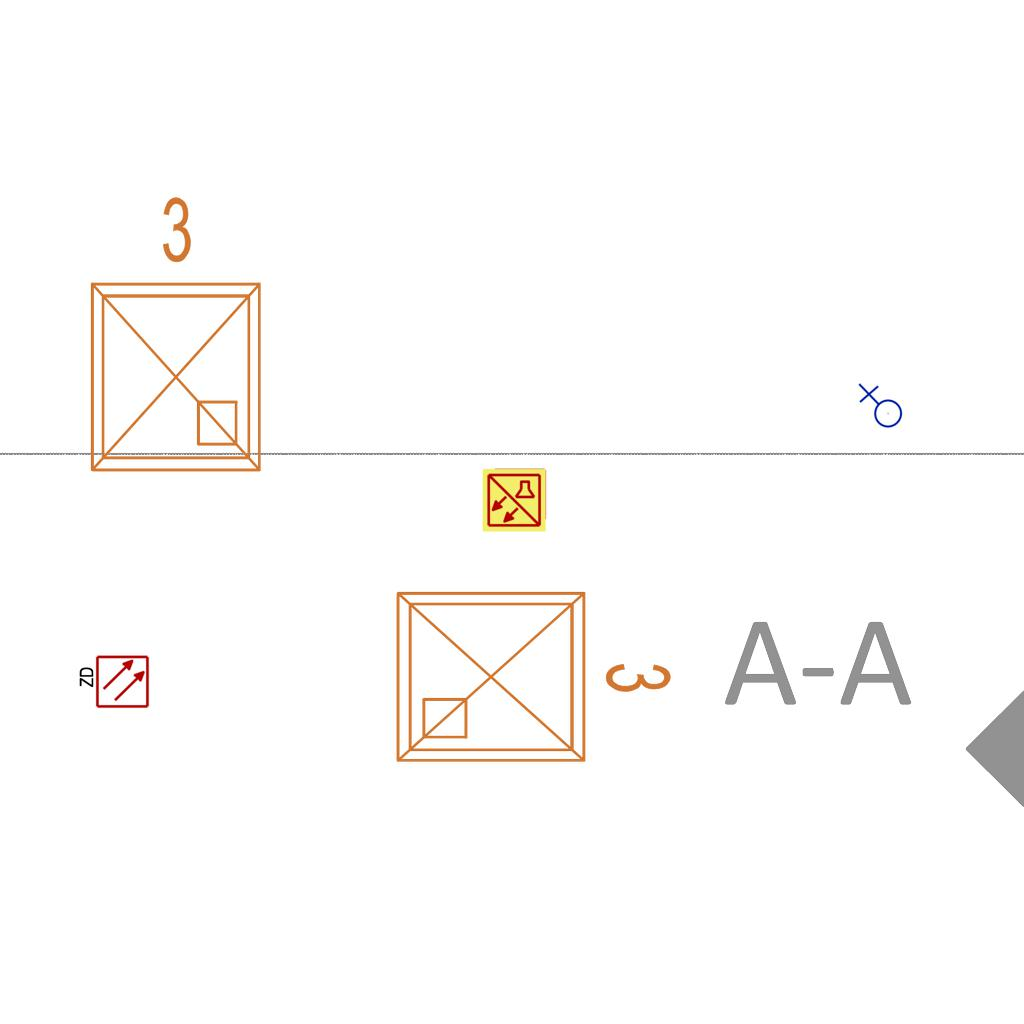Einbaudownlights_LED_Konferenzraeume: (68, 186, 276, 486), (382, 569, 682, 777)
Elektroanschluss_allgemein_230V_Geraeteanschlussdose_230V: (856, 383, 903, 432)
OKW_Multisensormelder_(Kombination_optischer_Rauch-Kahlenmonoxid_Waerme-Melder): (481, 467, 547, 533)
ZD_Melder_in_Zwischendecke_mit_Revisionsoeffnung_mind_40_x_40_cm: (76, 654, 150, 711)
